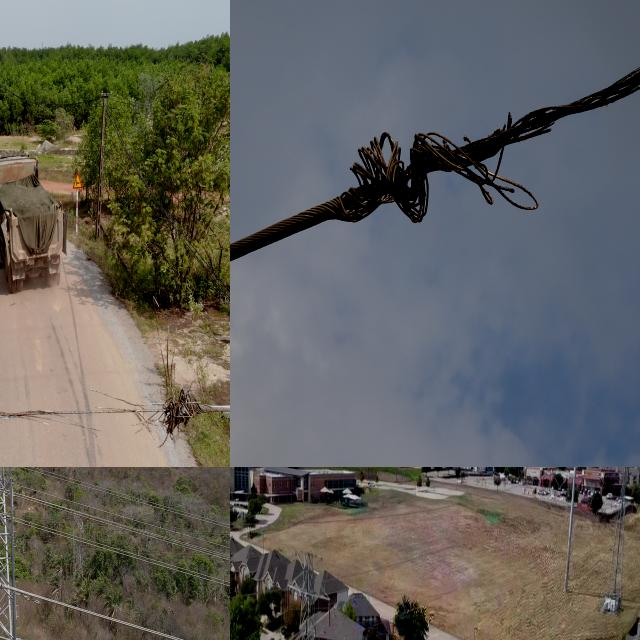杆塔: (280, 548, 334, 640), (608, 467, 630, 612)
正常绝缘子: (286, 586, 292, 616), (327, 599, 332, 630)
电缆破损: (267, 26, 640, 261), (0, 283, 220, 454)
